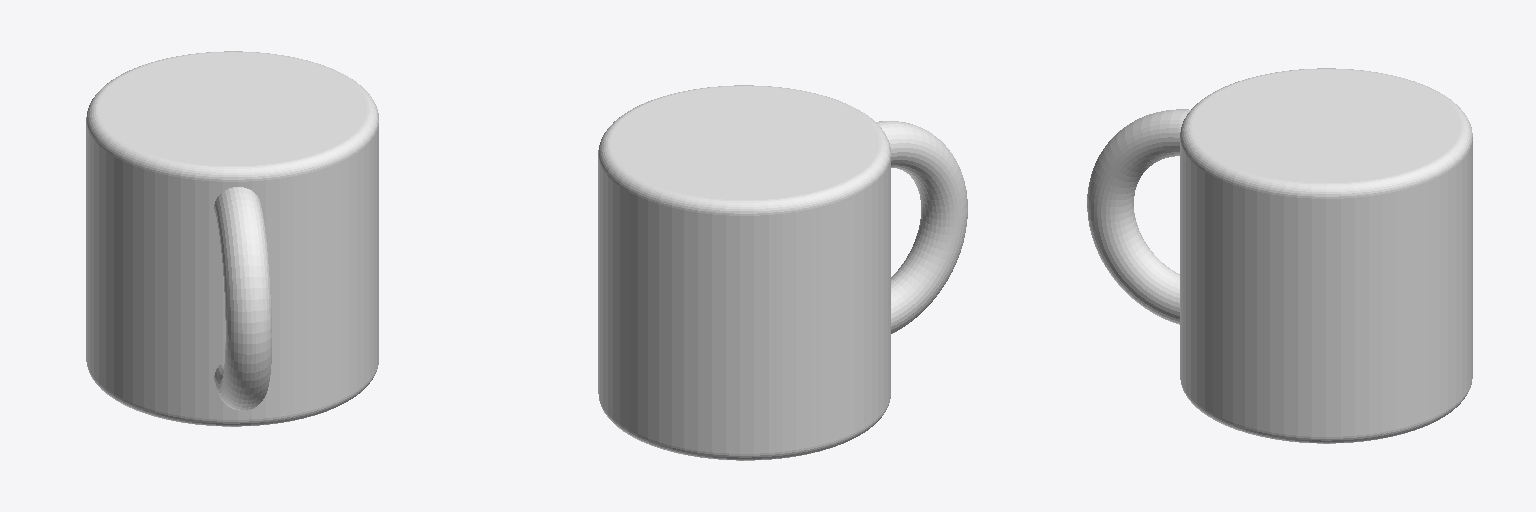
Rendered from Copo.obj.
The picture shows the model from 3 angles: view 1: azimuth 30°, elevation 25°; view 2: azimuth 150°, elevation 25°; view 3: azimuth 270°, elevation 25°; orthographic projection.
Visible parts, largest first — view 1: 001_Cylinder, 000_Torus; view 2: 001_Cylinder, 000_Torus; view 3: 001_Cylinder, 000_Torus.
Boxes of the visible parts, x1,y1,x2,y2 form: 001_Cylinder: [86, 51, 378, 426]; 000_Torus: [214, 187, 271, 410]; 001_Cylinder: [598, 85, 890, 460]; 000_Torus: [876, 121, 967, 333]; 001_Cylinder: [1180, 68, 1472, 443]; 000_Torus: [1087, 109, 1190, 324].
Size of the model in its own units: 100 by 97.6 by 132.